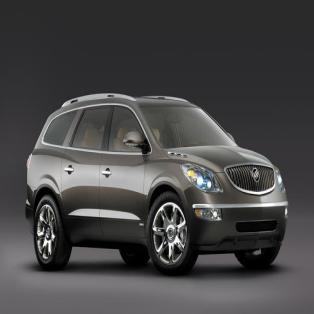Auto: (20, 83, 292, 282)
